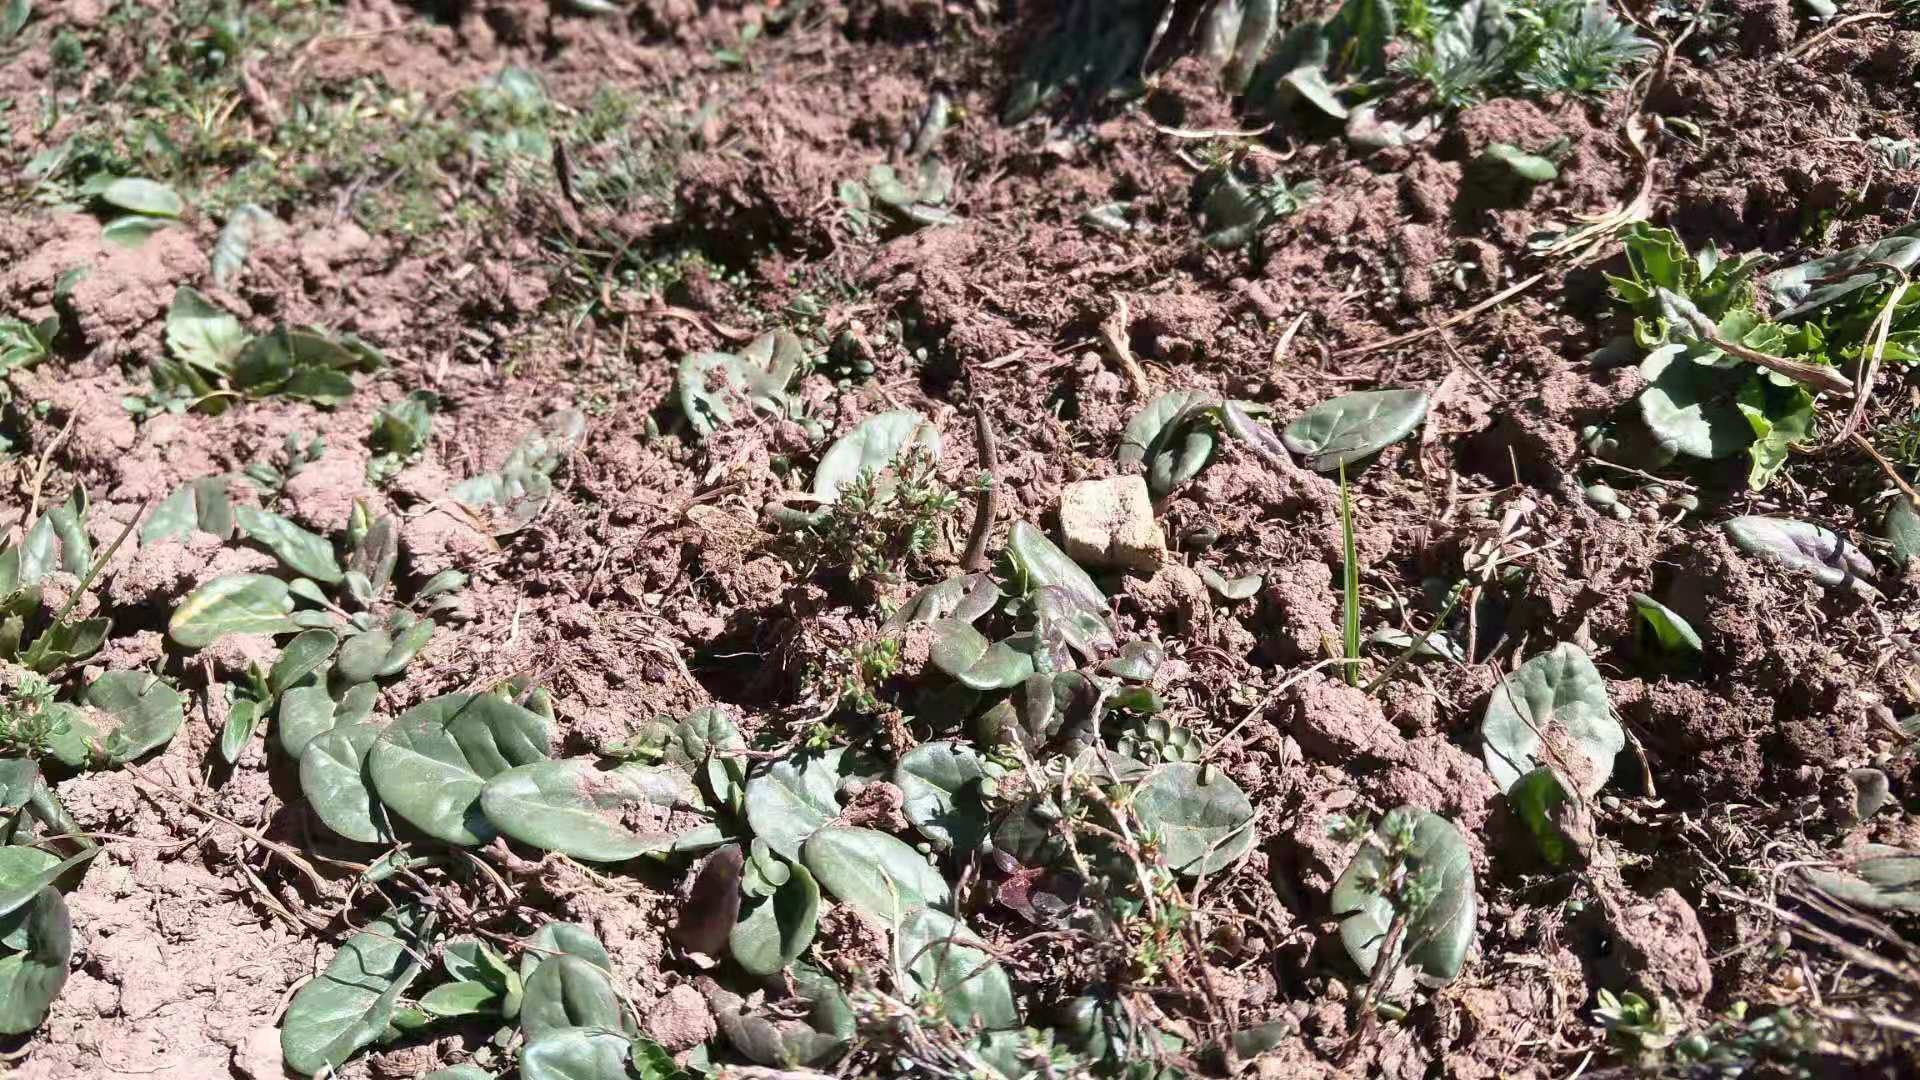Chongcao: (959, 404, 1001, 570)
